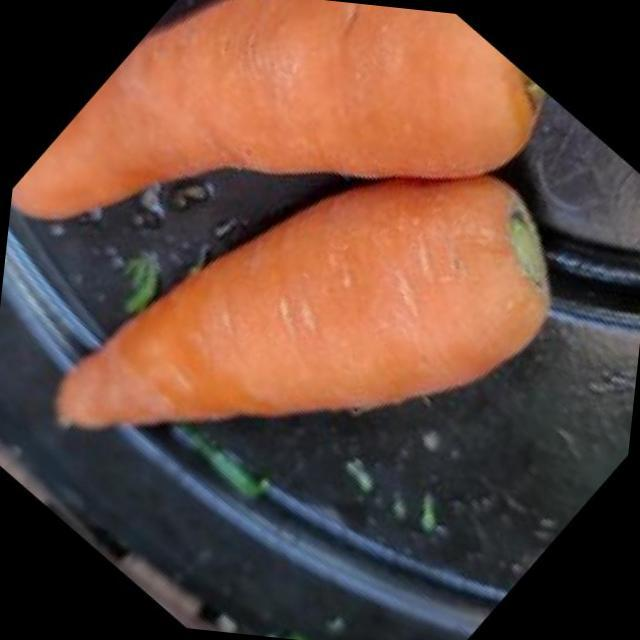carrot: (1, 8, 634, 640), (0, 0, 575, 484)
